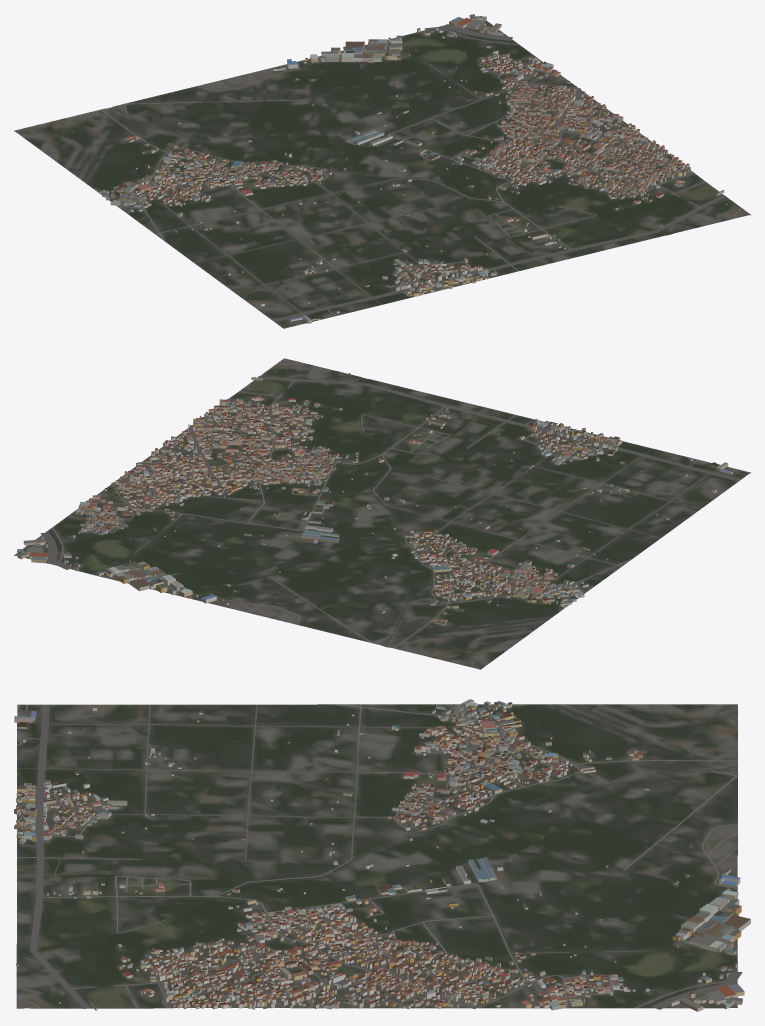
The picture shows the model from 3 angles, top to bottom: view 1: azimuth 30°, elevation 25°; view 2: azimuth 150°, elevation 25°; view 3: azimuth 270°, elevation 25°; orthographic projection. The views are drawn at different scales.
Parts seen in each view (by area): view 1: ground, buildings, roads; view 2: ground, buildings, roads; view 3: ground, buildings, roads, water.
Boxes of the visible parts, x1,y1,x2,y2 form: ground: (14,20,750,328); buildings: (98,14,727,323); roads: (101,24,745,328); ground: (14,358,750,669); buildings: (17,370,732,625); roads: (40,361,749,648); ground: (16,704,737,1008); buildings: (14,699,750,1011); roads: (16,704,742,1009); water: (17,766,737,959).
Size of the model in its own units: 1426 by 18.87 by 1433.
